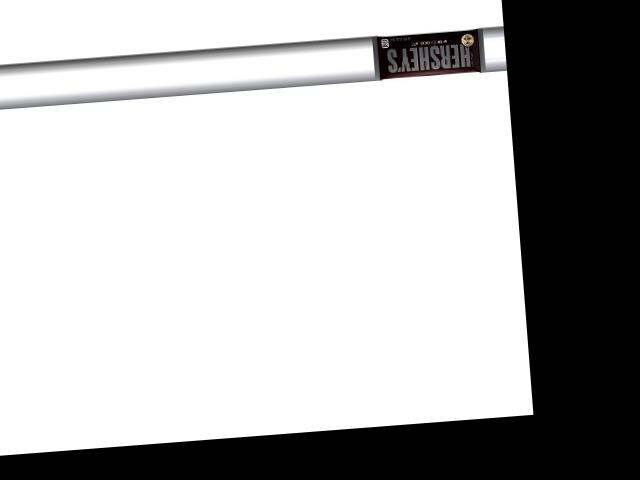chocolate: (371, 23, 483, 79)
